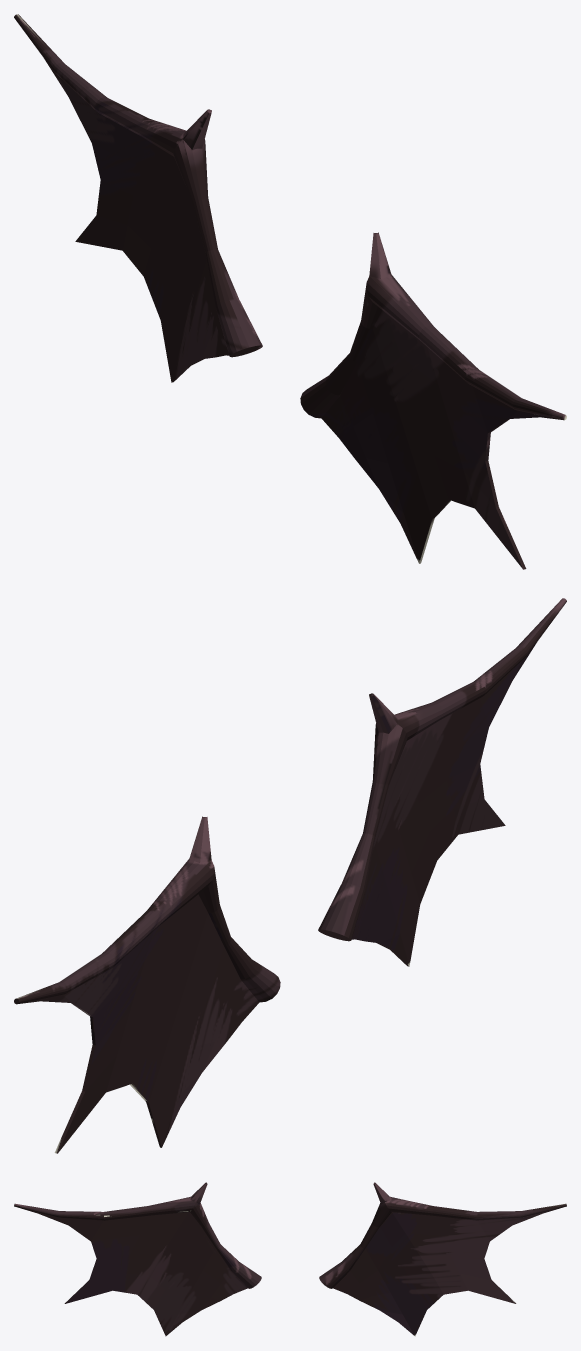
Rendered from wings1.fbx.
The picture shows the model from 3 angles, top to bottom: view 1: azimuth 30°, elevation 25°; view 2: azimuth 150°, elevation 25°; view 3: azimuth 270°, elevation 25°; orthographic projection. The views are drawn at different scales.
Visible parts, largest first — view 1: Cylinder.001; view 2: Cylinder.001; view 3: Cylinder.001.
Boxes of the visible parts, left/top/right/bottom form: Cylinder.001: left=14, top=14, right=566, bottom=569; Cylinder.001: left=14, top=598, right=566, bottom=1153; Cylinder.001: left=14, top=1182, right=566, bottom=1336.
Bounding box in the file's own units: 14.01 × 113 × 373.
